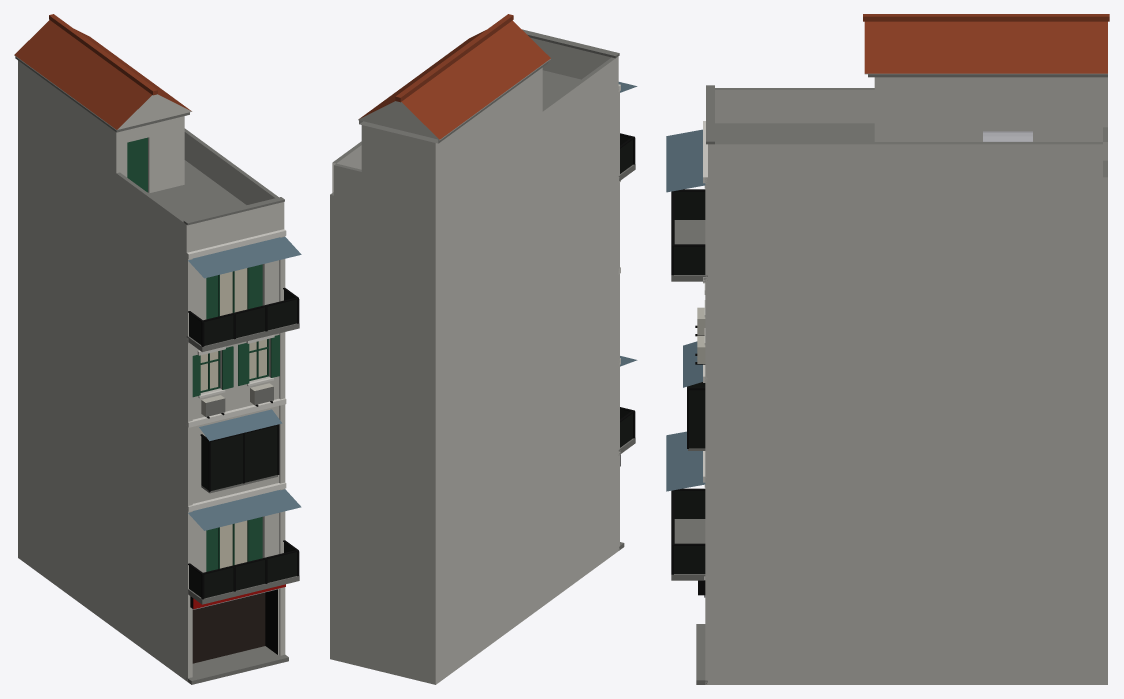
Rendered from SM_HouseA.fbx.
3 renders of one model, left to right at view 1: azimuth 30°, elevation 25°; view 2: azimuth 150°, elevation 25°; view 3: azimuth 270°, elevation 25°, orthographic. The views are drawn at different scales.
Parts seen in each view (by area): view 1: SM_HouseA_LOD0; view 2: SM_HouseA_LOD0; view 3: SM_HouseA_LOD0.
Part boxes in pixels (x1,y1,x2,y2): SM_HouseA_LOD0: [14, 14, 301, 684]; SM_HouseA_LOD0: [330, 14, 637, 684]; SM_HouseA_LOD0: [666, 14, 1109, 684].
Size of what is drawn, in the model's own units: 4.15 by 20.95 by 13.3.
